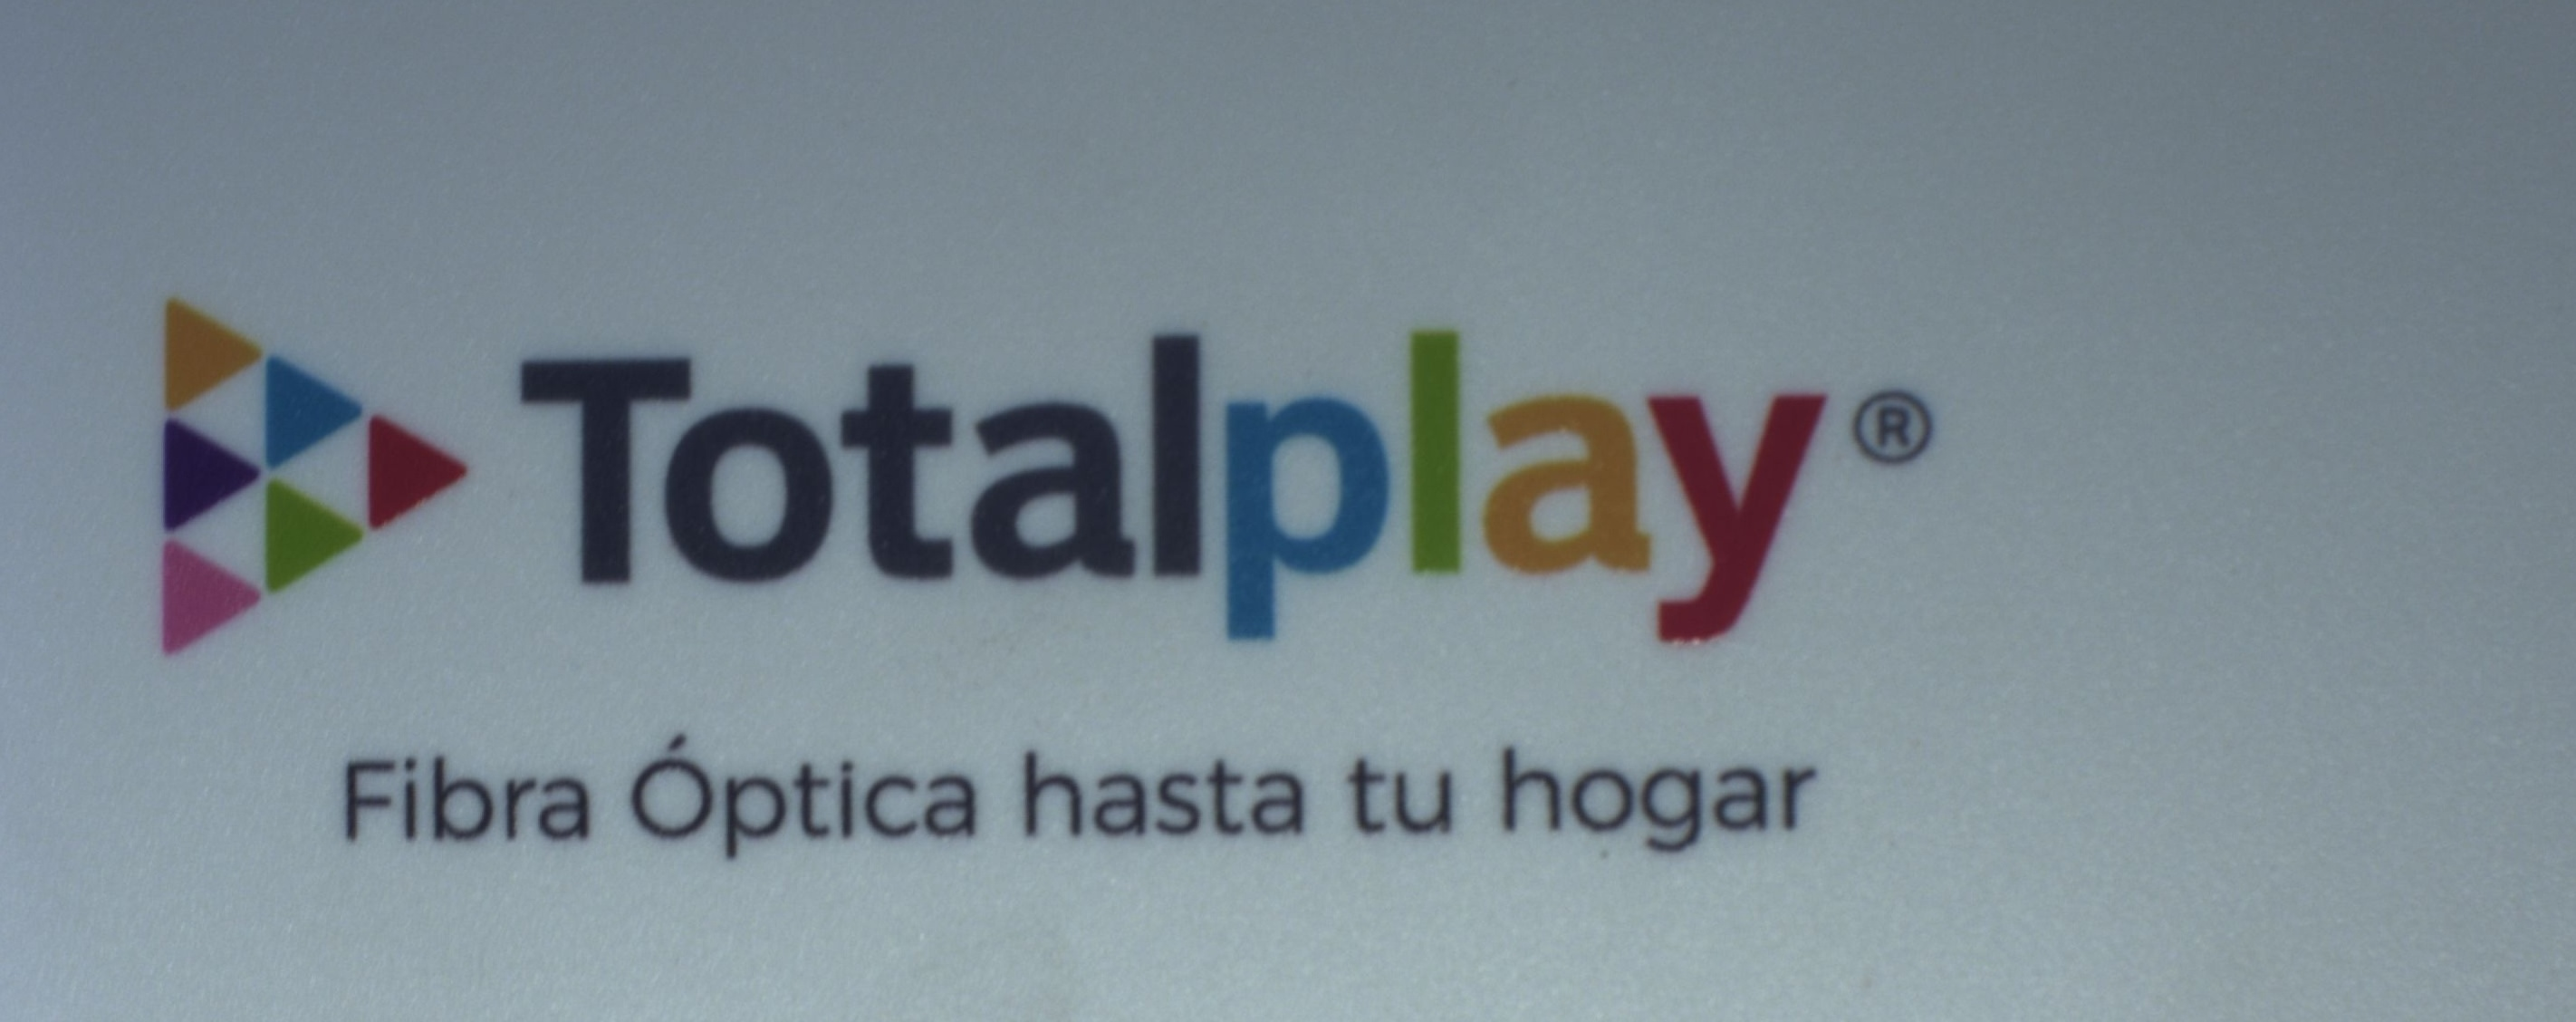BP_TotalPlay: (123, 237, 1962, 876)
